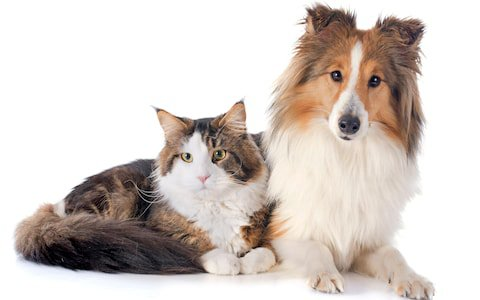cat: (38, 96, 288, 276)
dog: (242, 1, 454, 300)
